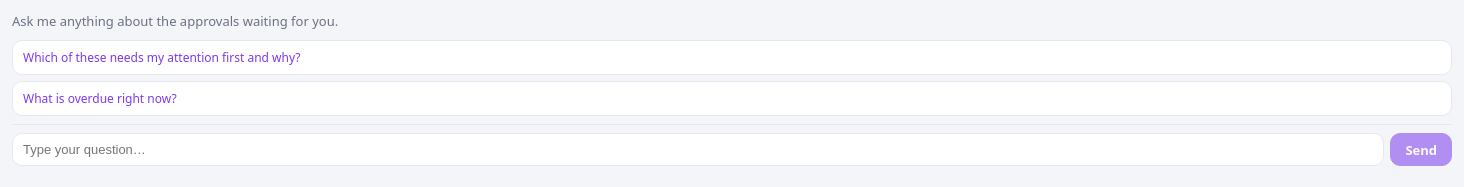
Test: ChatPanel: streaming state › reassembles an event split across two network chunks
In the field named "message the assistant": (698, 150) [12,133,1384,166], type "Which of these needs my attention first?"
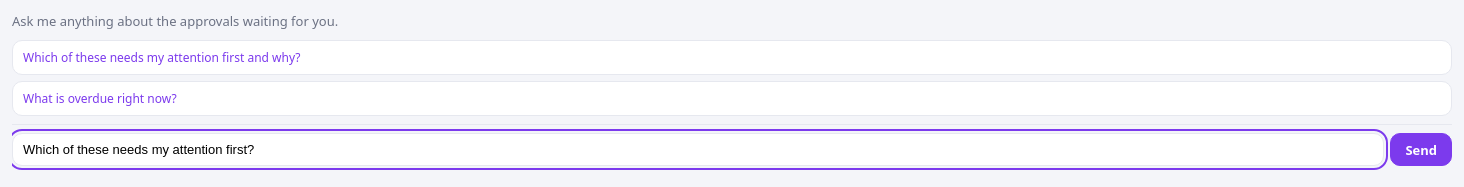
Click the button "Send": (1421, 150) [1390,133,1452,166]
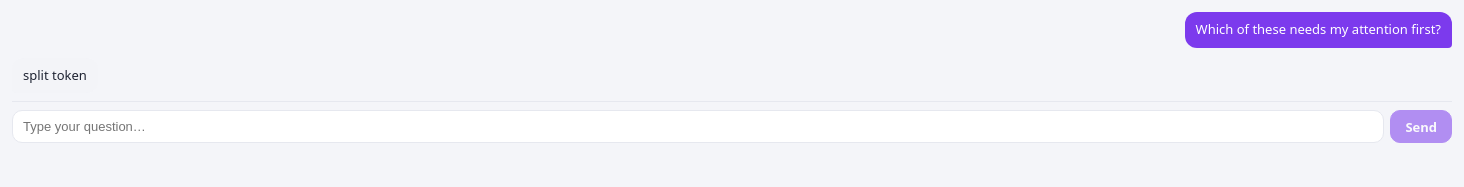
Expected: the element with test id "assistant-message" reads "split token", [23,66,87,84]
